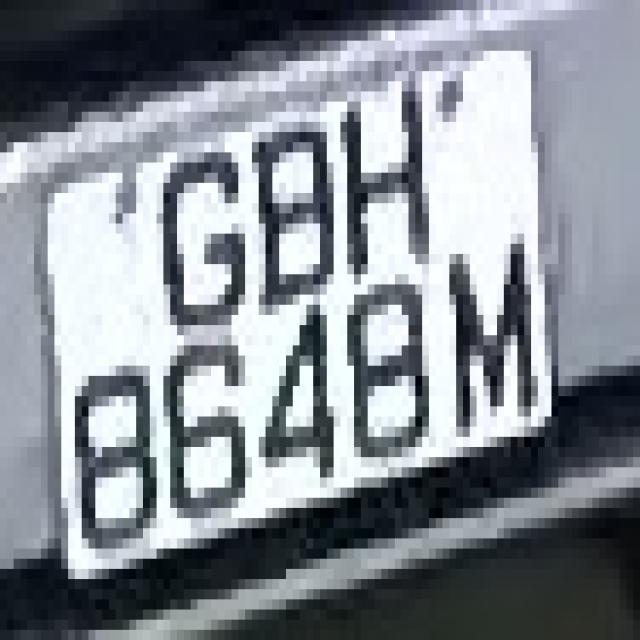4: (232, 295, 341, 518)
6: (150, 325, 245, 528)
8: (55, 366, 156, 589), (333, 284, 442, 468)
B: (225, 112, 340, 325)
G: (143, 132, 245, 376)
H: (320, 81, 443, 254)
M: (436, 244, 544, 477)
